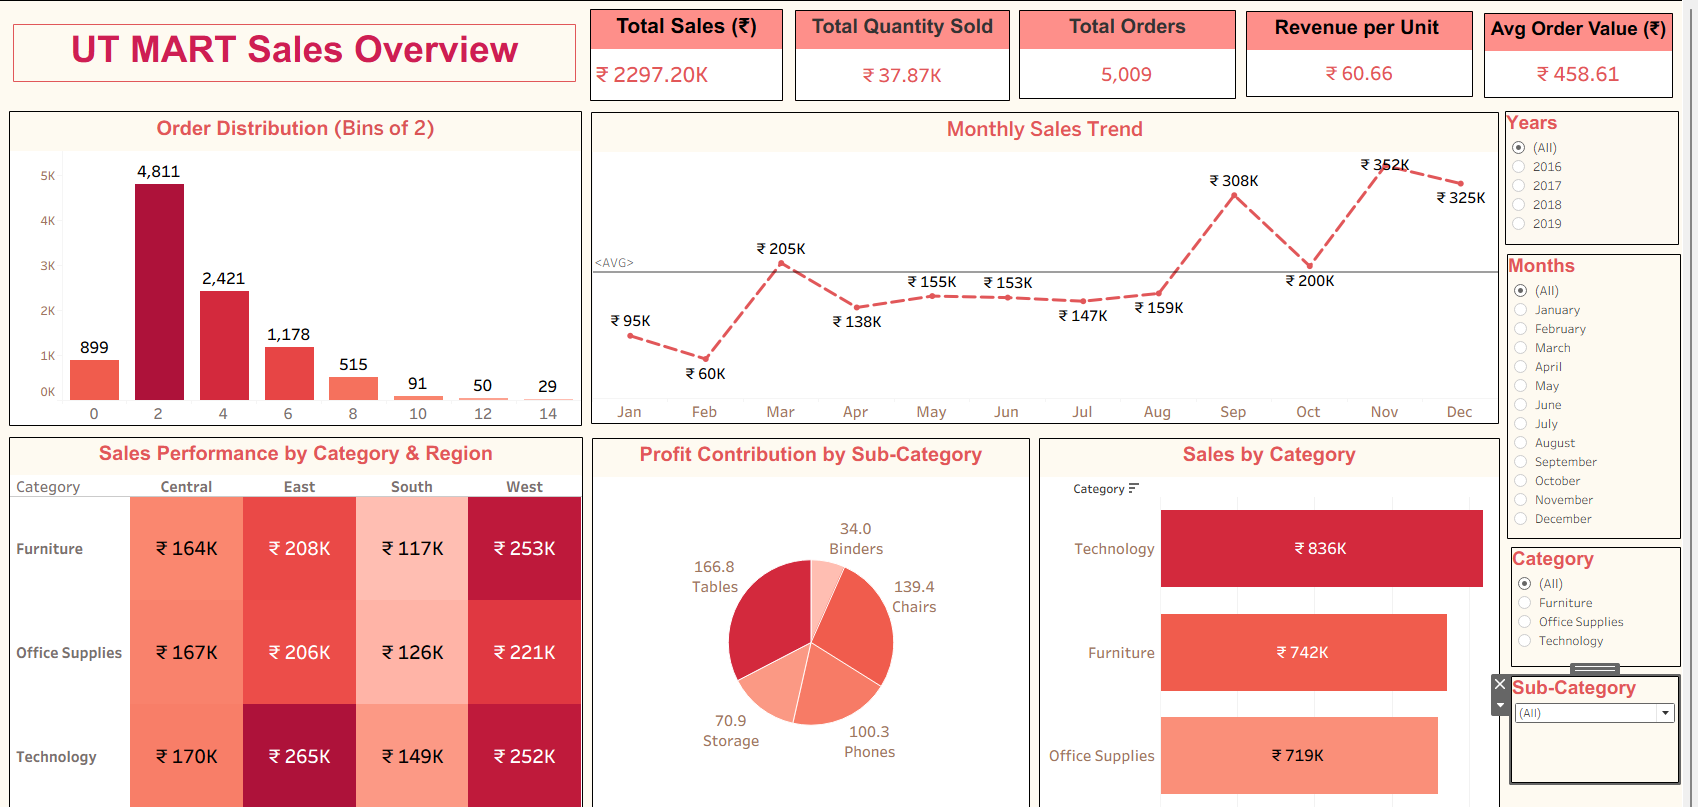

This screenshot's page, from the dashboard's own definition file:
{"tool":"tableau","page":{"name":"Dashboard 1","canvas":[1000,1000],"units":"permille","ordinal":0},"visuals":[{"type":"worksheet","title":"KPIS1 ","mark":"Text","box":[349.4,20.2,112.2,109.5]},{"type":"worksheet","title":"Kpi2","mark":"Text","box":[468.6,21.4,125,108.3]},{"type":"worksheet","title":"kpi3","mark":"Text","box":[598.8,21.4,126.2,106]},{"type":"worksheet","title":"Kpis4","mark":"Text","box":[730.8,22.6,132,102.4]},{"type":"worksheet","title":"KPI 5","mark":"Automatic","box":[869.2,25,109.9,101.2]},{"type":"worksheet","title":"Sheet 10","mark":"Text","box":[14,38.1,327.3,69]},{"type":"worksheet","title":"chart 2","mark":"Bar","rows":["Order ID"],"cols":["Quantity (bin)"],"box":[11.6,141.7,333.1,375]},{"type":"filter","title":"Chart3","param":"[federated.0z7ppfu00vnl0w0zyle6p1x2o6va].[yr:Order Date:ok]","box":[881.4,141.7,101.2,159.5]},{"type":"worksheet","title":"Chart3","mark":"Line","rows":["Sales"],"cols":["Calculation_706502216143458305"],"box":[350,142.9,527.9,371.4]},{"type":"filter","title":"Chart 5","param":"[federated.0z7ppfu00vnl0w0zyle6p1x2o6va].[mn:Order Date:ok]","box":[882.6,311.9,101.2,339.3]},{"type":"worksheet","title":"Chart 5","mark":"Square","rows":["Category"],"cols":["Region"],"box":[11.6,529.8,333.7,444.1]},{"type":"worksheet","title":"Chart4","mark":"Pie","box":[350.6,531,254.7,441.7]},{"type":"worksheet","title":"Chart1","mark":"Automatic","rows":["Category"],"cols":["Sales"],"box":[610.5,531,268,440.5]},{"type":"filter","title":"Chart 5","param":"[federated.0z7ppfu00vnl0w0zyle6p1x2o6va].[none:Category:nk]","box":[884.9,660.7,98.8,142.9]},{"type":"filter","title":"Chart4","param":"[federated.0z7ppfu00vnl0w0zyle6p1x2o6va].[none:Sub-Category:nk]","box":[884.9,814.3,97.7,127.4]}]}

Visuals, with their boxes on the dashboard's canvas, which has no fixed pixel size, in thousandths of its width and height (x1, y1, x2, y2). These are canvas units, not pixel positions in the 1698x807 screenshot, which may show the page scaled, cropped or inside an application window:
"KPIS1 " worksheet (Text marks): 349/20/462/130
"Kpi2" worksheet (Text marks): 469/21/594/130
"kpi3" worksheet (Text marks): 599/21/725/127
"Kpis4" worksheet (Text marks): 731/23/863/125
"KPI 5" worksheet: 869/25/979/126
"Sheet 10" worksheet (Text marks): 14/38/341/107
"chart 2" worksheet (Bar marks): 12/142/345/517
"Chart3" filter: 881/142/983/301
"Chart3" worksheet (Line marks): 350/143/878/514
"Chart 5" filter: 883/312/984/651
"Chart 5" worksheet (Square marks): 12/530/345/974
"Chart4" worksheet (Pie marks): 351/531/605/973
"Chart1" worksheet: 610/531/878/972
"Chart 5" filter: 885/661/984/804
"Chart4" filter: 885/814/983/942
